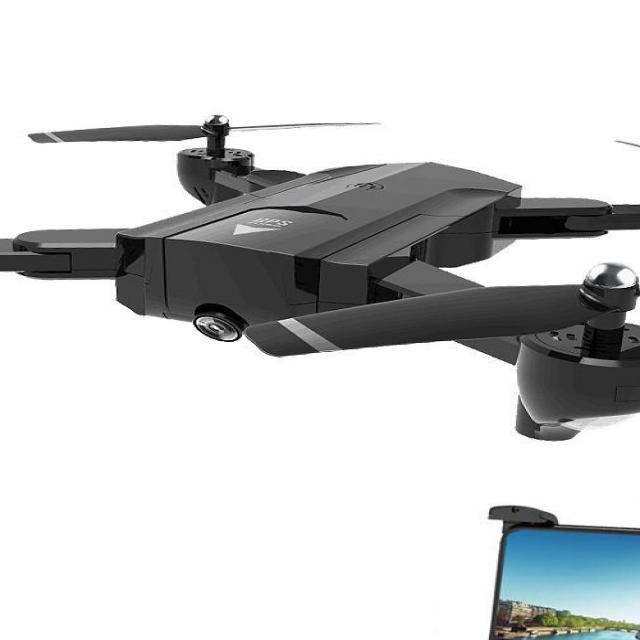drone: (0, 115, 640, 427)
